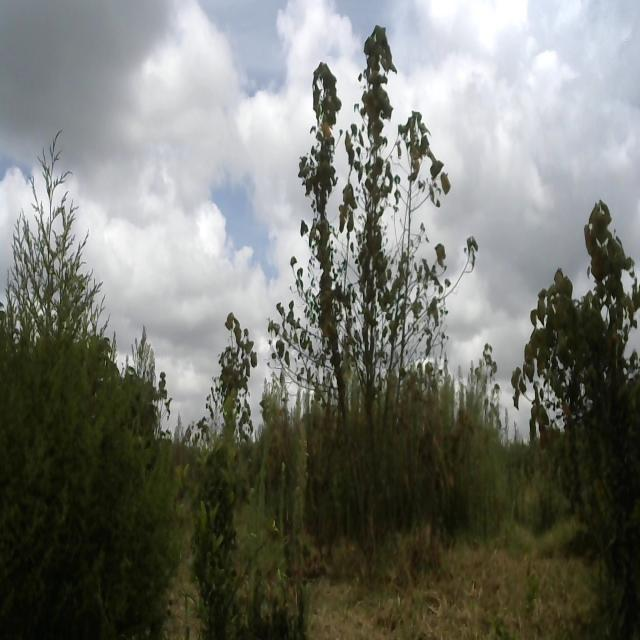cedrus: (0, 122, 178, 640), (208, 306, 260, 459)
other: (291, 14, 477, 475), (513, 187, 640, 547)
